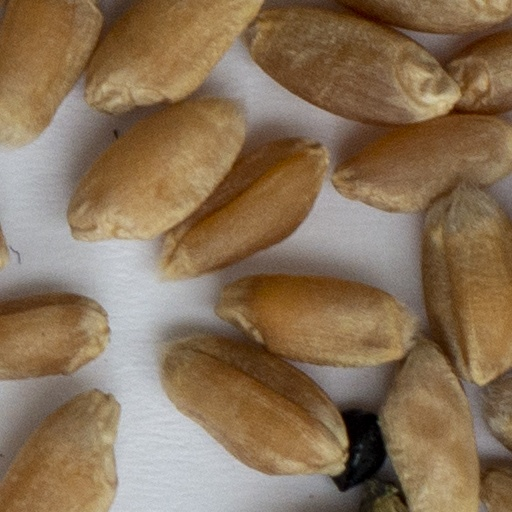Fallopia-Convolvulus-poly: (334, 411, 385, 495)
